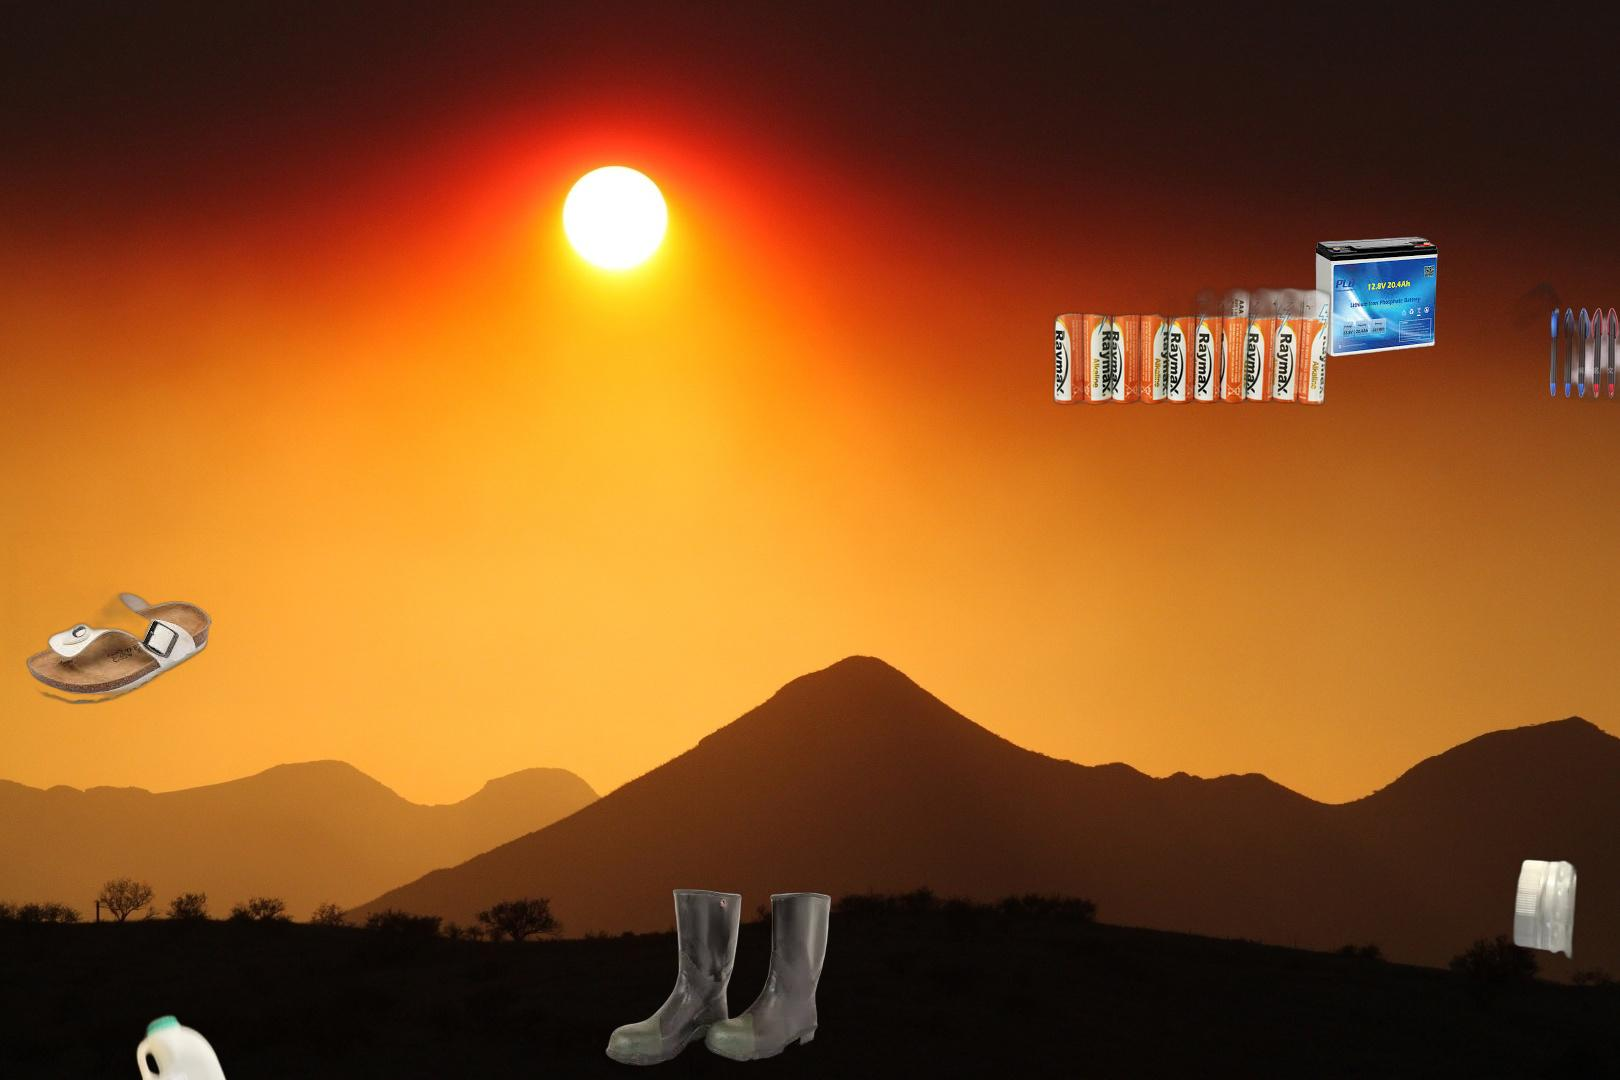battery: (1050, 246, 1334, 407), (1313, 234, 1440, 360)
penholder: (1509, 283, 1620, 403)
plastic-bottles: (1508, 856, 1620, 1080), (96, 1009, 243, 1080)
shoes: (603, 886, 834, 1069), (4, 532, 221, 708)
